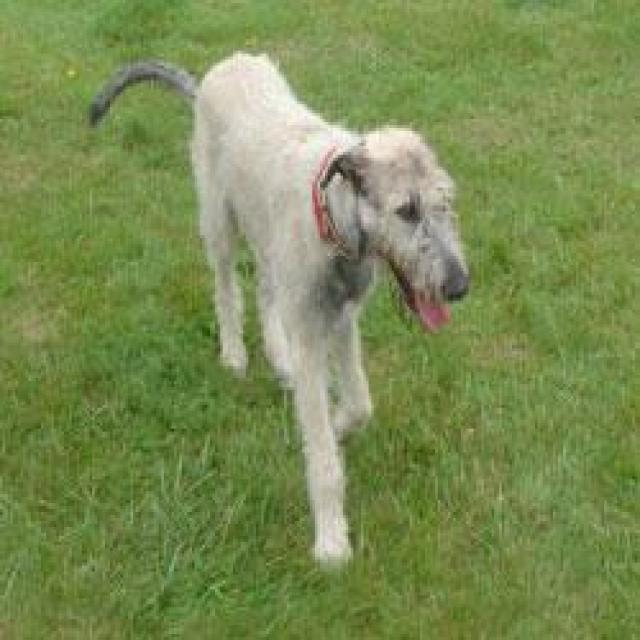irish_wolfhound: (87, 48, 469, 578)
